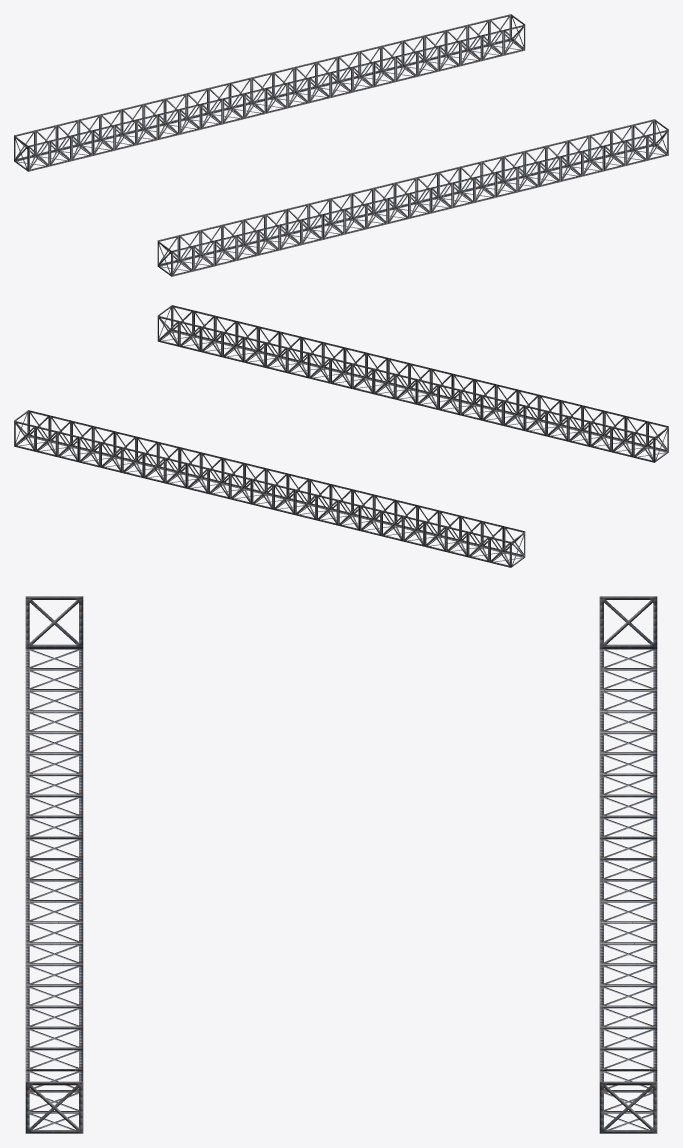
File: dt_small03_supports.fbx
3 renders of one model, top to bottom at view 1: azimuth 30°, elevation 25°; view 2: azimuth 150°, elevation 25°; view 3: azimuth 270°, elevation 25°, orthographic. The views are drawn at different scales.
Visible parts, largest first — view 1: mesh_0, mesh_1; view 2: mesh_1, mesh_0; view 3: mesh_1, mesh_0.
Boxes of the visible parts, box(x1,y1,x2,y2) form: mesh_0: box(14, 14, 525, 171); mesh_1: box(157, 119, 668, 276); mesh_1: box(157, 305, 668, 462); mesh_0: box(14, 410, 525, 567); mesh_1: box(25, 596, 83, 1133); mesh_0: box(599, 596, 657, 1133).
Bounding box in the file's own units: 800 × 40 × 440.
1 material, 1 textured.
